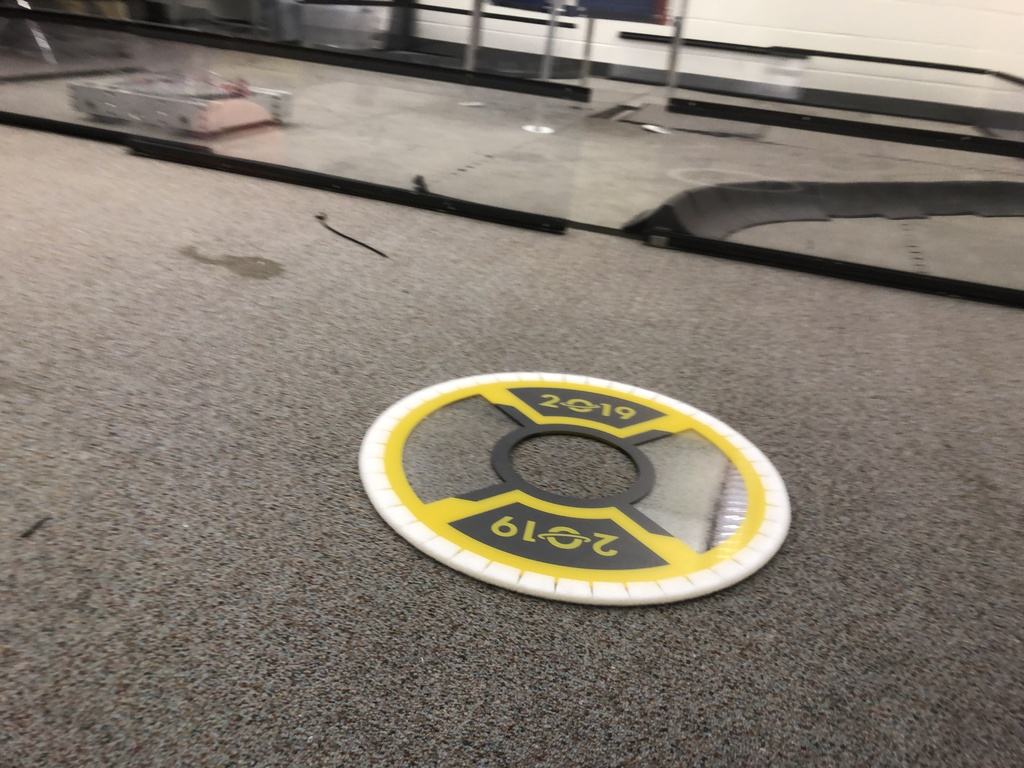hatch_panel: (346, 362, 813, 615)
